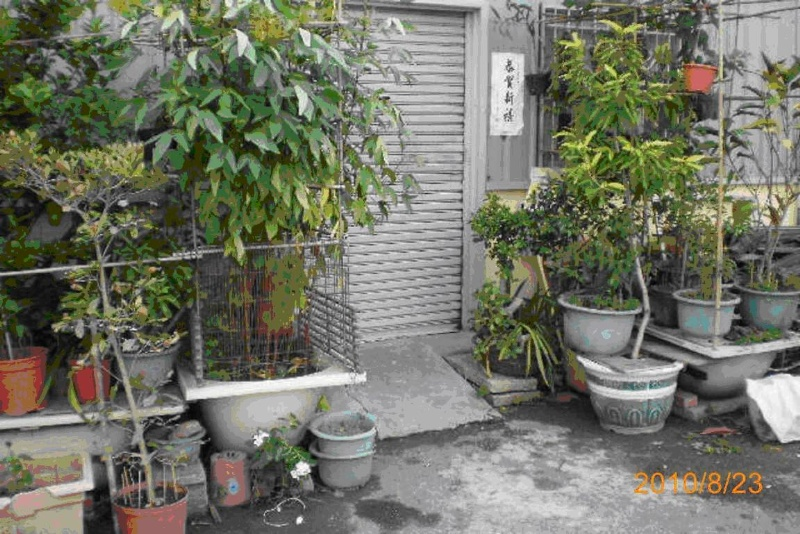bucket: (308, 412, 380, 490)
